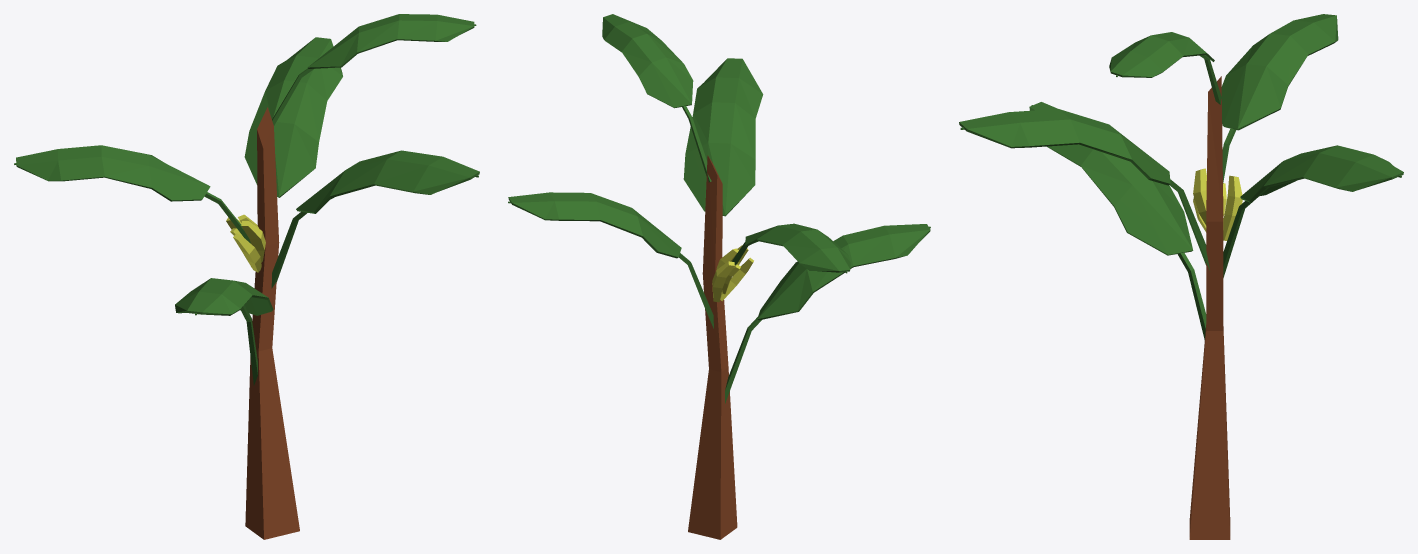
File: bunker47-prop-palm08.glb
3 renders of one model, left to right at view 1: azimuth 30°, elevation 25°; view 2: azimuth 150°, elevation 25°; view 3: azimuth 270°, elevation 25°, orthographic. The views are drawn at different scales.
Parts seen in each view (by area): view 1: Tree_Tropic_008; view 2: Tree_Tropic_008; view 3: Tree_Tropic_008.
Boxes of the visible parts, x1=… form: Tree_Tropic_008: x1=14, y1=14, x2=479, y2=539; Tree_Tropic_008: x1=508, y1=14, x2=930, y2=539; Tree_Tropic_008: x1=959, y1=14, x2=1403, y2=539.
Size of the model in its own units: 327 by 431 by 317.
Materials: 1 (1 with a texture image).
